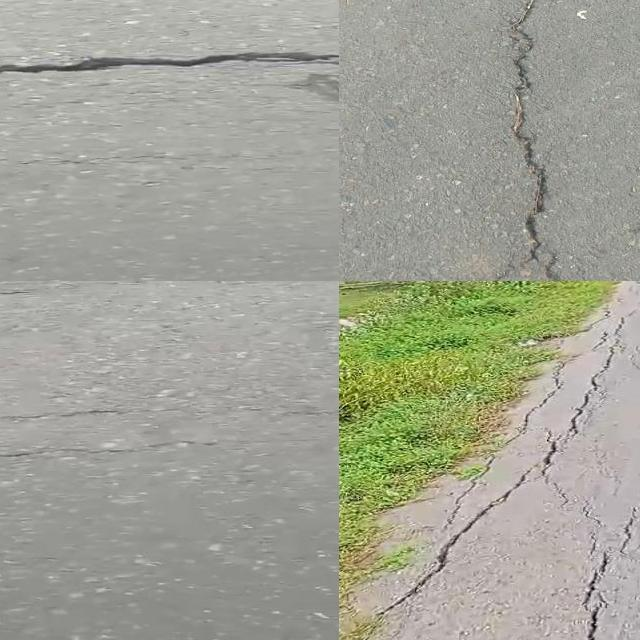Melintang: (0, 40, 339, 86)
Memanjang: (493, 0, 583, 281), (575, 486, 640, 640)
